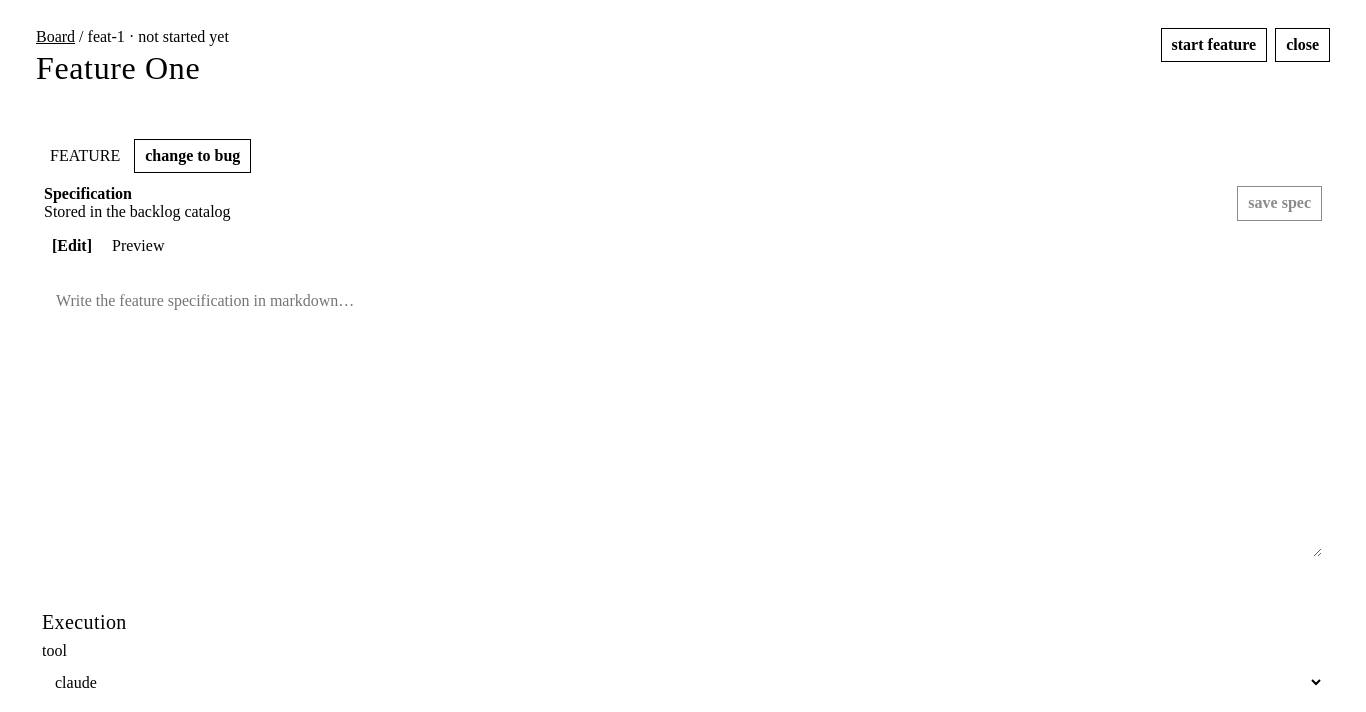
Test: BacklogItemDetail Work Item type change › shows the server error and keeps the diff open when the type change is rejected
What coordinates should you click on to do the following:
click the button "change to bug"
I would click on:
 (193, 156)
Its box is x1=134 y1=139 x2=251 y2=173.
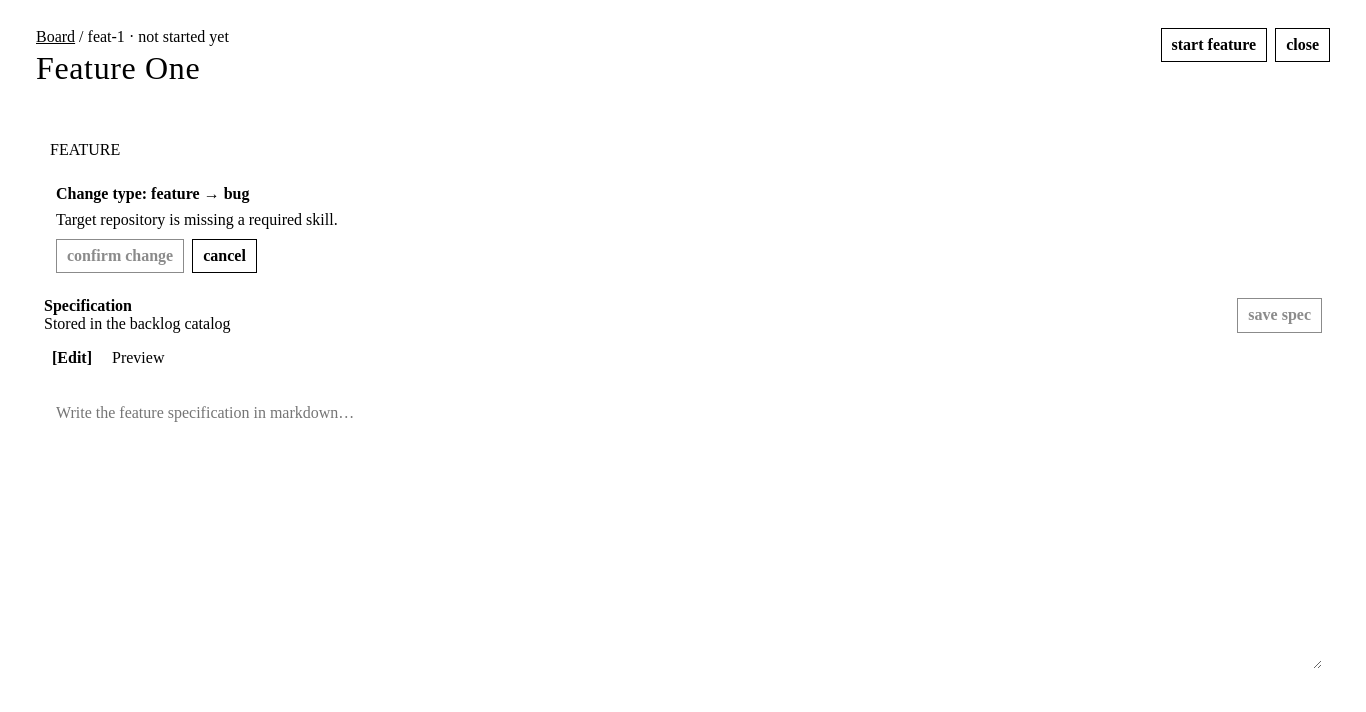
expect the message "Target repository is missing a required skill." is shown: met, box x1=56 y1=211 x2=338 y2=228
expect the text "Change type: feature → bug" is shown: met, box x1=56 y1=185 x2=250 y2=202
